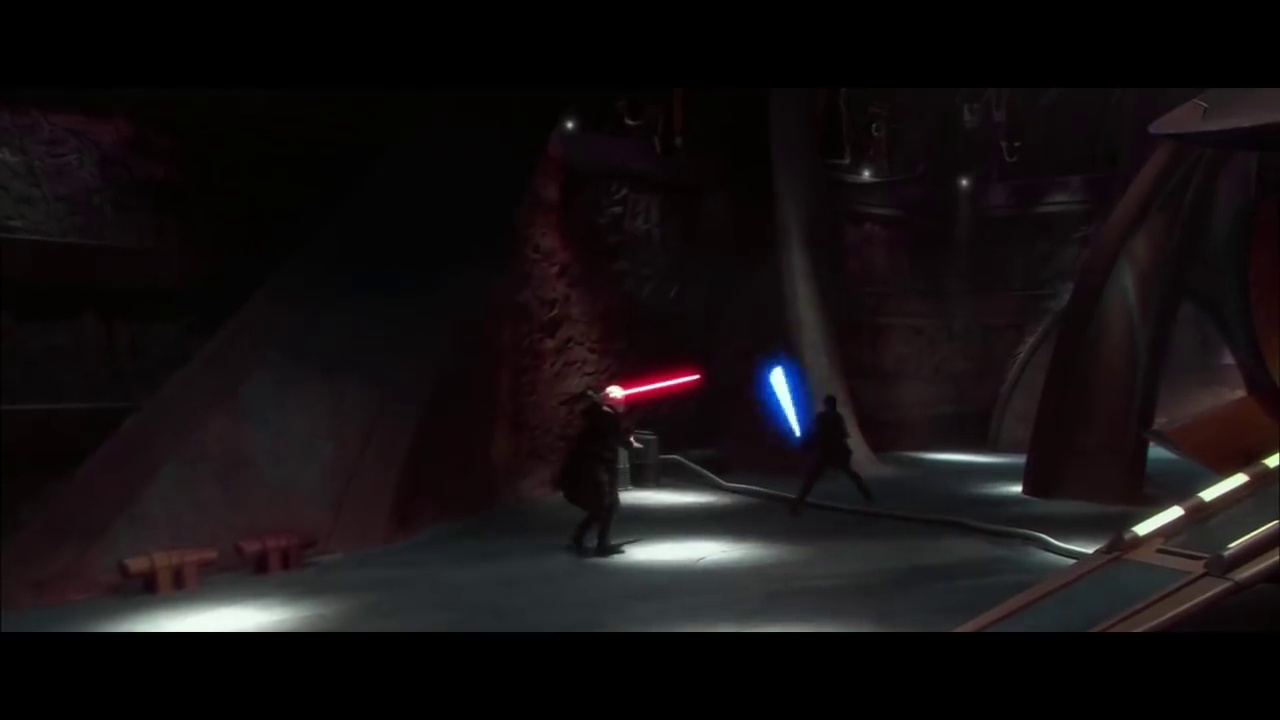lightsaber: (606, 370, 707, 402), (765, 358, 803, 439)
